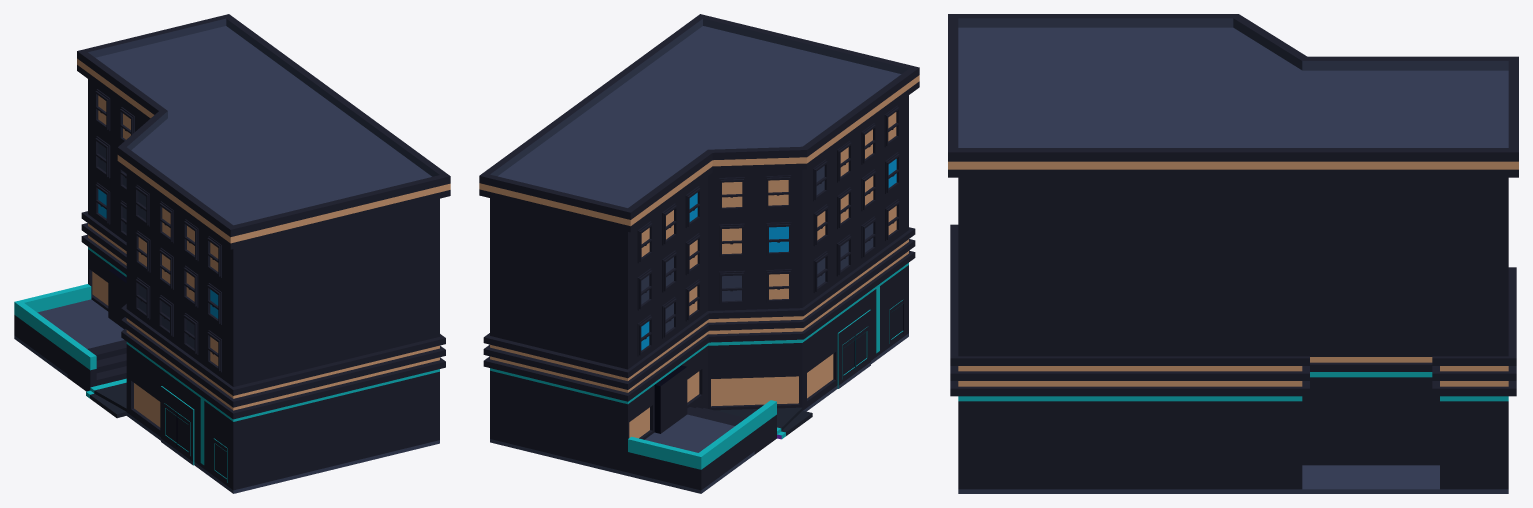
File: Building_Restaurant.fbx
3 views of the same model, side by side, from view 1: azimuth 30°, elevation 25°; view 2: azimuth 150°, elevation 25°; view 3: azimuth 270°, elevation 25° (orthographic). The views are drawn at different scales.
Visible parts, largest first — view 1: Cube.843, Cube.846, Cube.844; view 2: Cube.843, Cube.846, Cube.844, Cube.845; view 3: Cube.843.
Part boxes in pixels (x1,y1,x2,y2): Cube.843: (14, 14, 450, 493); Cube.846: (213, 438, 227, 482); Cube.844: (177, 412, 190, 456); Cube.843: (479, 14, 919, 493); Cube.846: (889, 299, 903, 343); Cube.844: (855, 326, 868, 370); Cube.845: (842, 336, 855, 379); Cube.843: (948, 14, 1518, 493).
Size of the model in its own units: 978 by 1125 by 1683.
